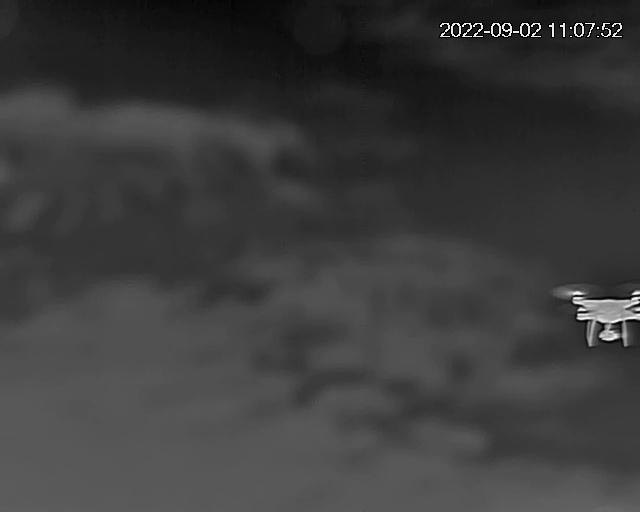DJI-Phantom: (555, 282, 640, 347)
